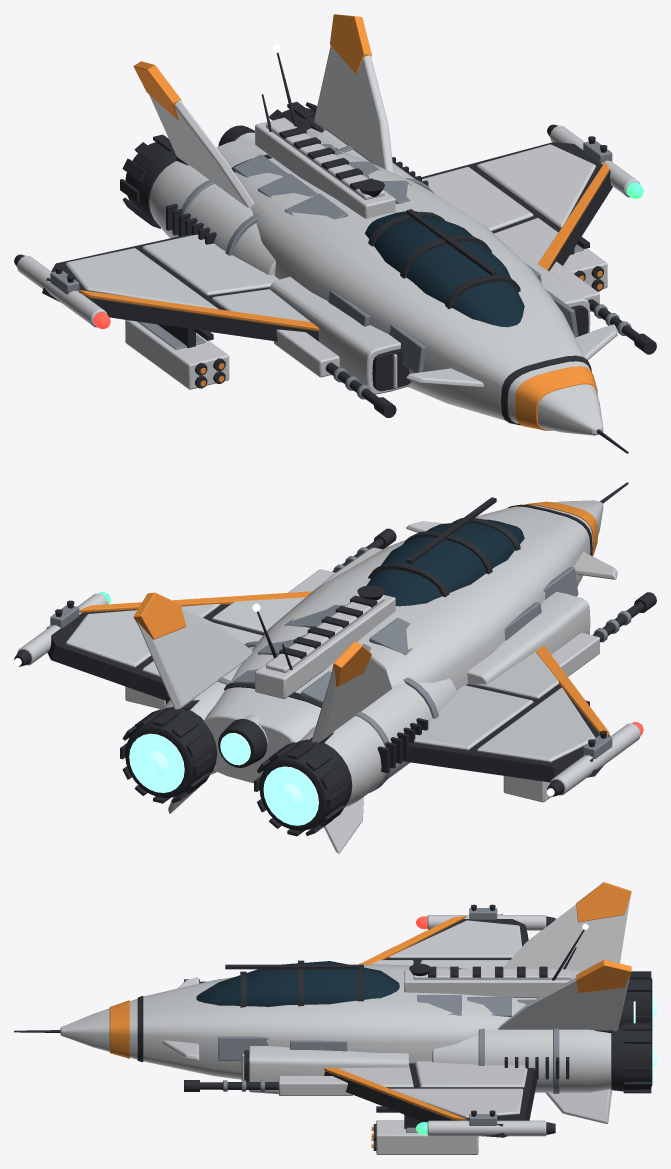
File: trace_fighter_mk2.glb
3 views of the same model, one above another, from view 1: azimuth 30°, elevation 25°; view 2: azimuth 150°, elevation 25°; view 3: azimuth 270°, elevation 25° (orthographic). The views are drawn at different scales.
Parts seen in each view (by area): view 1: TraceFighterMk2.Hull, TraceFighterMk2.Dark, TraceFighterMk2.Accent, TraceFighterMk2.Canopy, TraceFighterMk2.Panel; view 2: TraceFighterMk2.Hull, TraceFighterMk2.Dark, TraceFighterMk2.Canopy, TraceFighterMk2.Panel, TraceFighterMk2.EngineGlow, TraceFighterMk2.Accent; view 3: TraceFighterMk2.Hull, TraceFighterMk2.Dark, TraceFighterMk2.Accent, TraceFighterMk2.Canopy, TraceFighterMk2.Panel.
Part boxes in pixels (<box>): TraceFighterMk2.Hull: <box>17,46,639,435</box>; TraceFighterMk2.Dark: <box>14,52,656,453</box>; TraceFighterMk2.Accent: <box>78,14,609,430</box>; TraceFighterMk2.Canopy: <box>365,211,524,327</box>; TraceFighterMk2.Panel: <box>50,140,631,399</box>; TraceFighterMk2.Hull: <box>17,500,640,853</box>; TraceFighterMk2.Dark: <box>14,482,656,836</box>; TraceFighterMk2.Canopy: <box>366,519,524,606</box>; TraceFighterMk2.Panel: <box>50,530,631,792</box>; TraceFighterMk2.EngineGlow: <box>129,733,318,825</box>; TraceFighterMk2.Accent: <box>79,501,609,735</box>; TraceFighterMk2.Hull: <box>60,896,630,1154</box>; TraceFighterMk2.Dark: <box>14,904,652,1150</box>; TraceFighterMk2.Accent: <box>109,882,631,1148</box>; TraceFighterMk2.Canopy: <box>196,961,399,1006</box>; TraceFighterMk2.Panel: <box>218,908,559,1132</box>.
Bounding box in the file's own units: 5.44 × 2.04 × 6.92.
